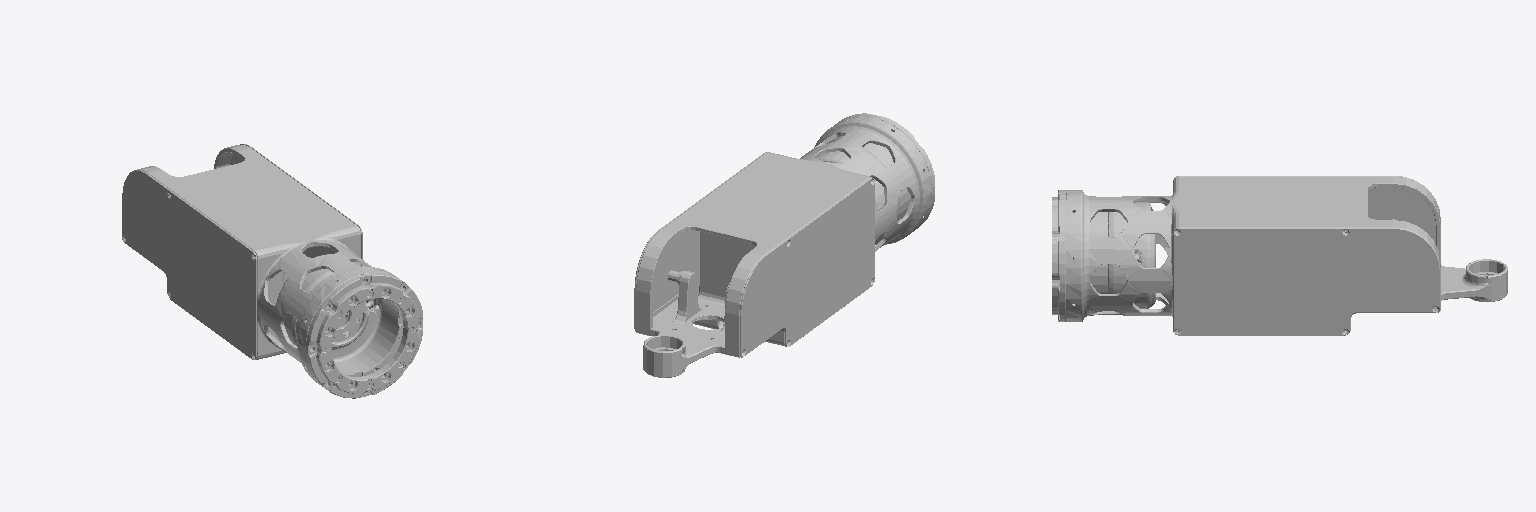
The model's file is left_hand_yaw_link.obj.
3 views of the same model, side by side, from view 1: azimuth 30°, elevation 25°; view 2: azimuth 150°, elevation 25°; view 3: azimuth 270°, elevation 25° (orthographic).
Visible parts, largest first — view 1: left_hand_yaw_link; view 2: left_hand_yaw_link; view 3: left_hand_yaw_link.
Boxes of the visible parts, box(x1,y1,x2,y2) form: left_hand_yaw_link: box(122, 144, 422, 398); left_hand_yaw_link: box(634, 113, 934, 377); left_hand_yaw_link: box(1052, 176, 1507, 335).
Size of the model in its own units: 0.062 by 0.062 by 0.2131.